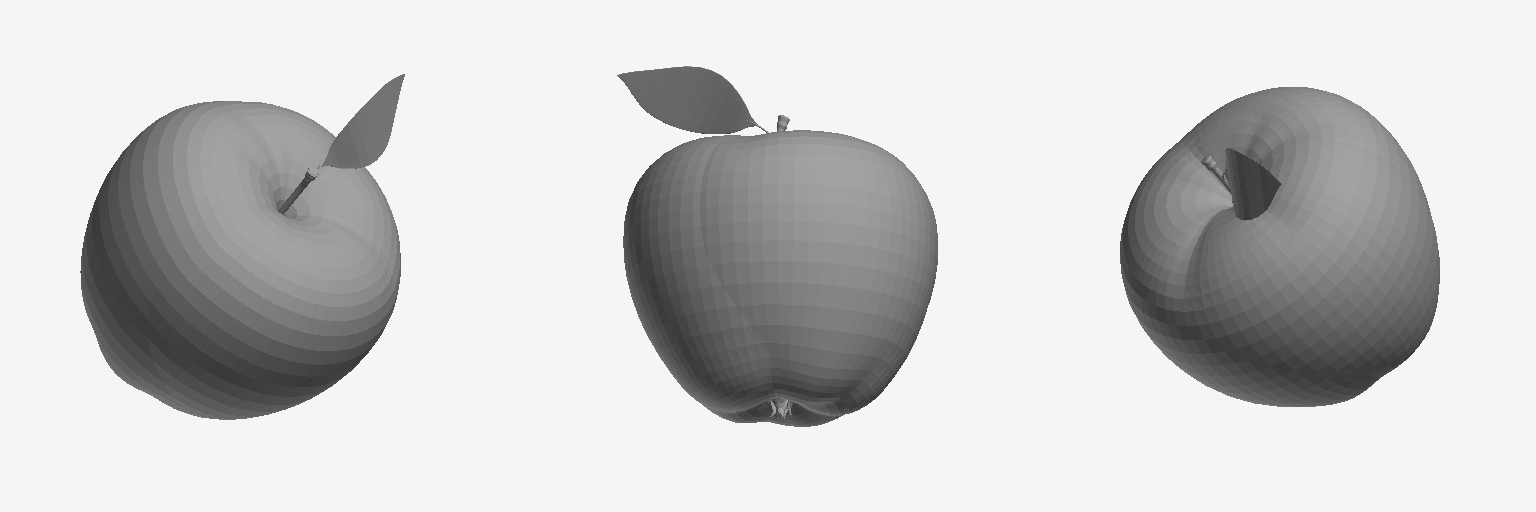
Rendered from apple.obj.
3 views of the same model, side by side, from view 1: azimuth 30°, elevation 25°; view 2: azimuth 150°, elevation 25°; view 3: azimuth 270°, elevation 25° (orthographic).
Visible parts, largest first — view 1: apple_Sphere.001, apple_leaf_Plane.003; view 2: apple_Sphere.001, apple_leaf_Plane.003; view 3: apple_Sphere.001, apple_leaf_Plane.003.
Part boxes in pixels (left/top/right/bottom): apple_Sphere.001: left=80, top=101, right=400, bottom=419; apple_leaf_Plane.003: left=317, top=74, right=404, bottom=169; apple_Sphere.001: left=623, top=130, right=937, bottom=426; apple_leaf_Plane.003: left=617, top=66, right=768, bottom=133; apple_Sphere.001: left=1120, top=87, right=1439, bottom=406; apple_leaf_Plane.003: left=1221, top=148, right=1281, bottom=220.
Bounding box in the file's own units: 1.88 × 1.81 × 1.74.